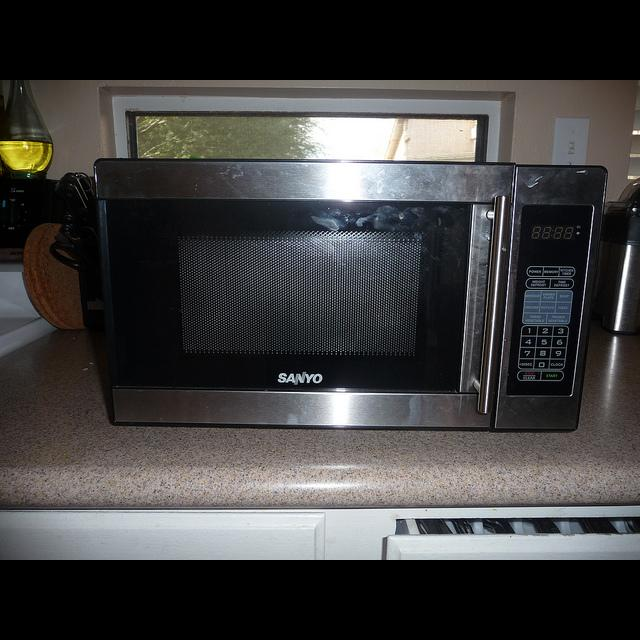Microwave: (92, 159, 612, 438)
